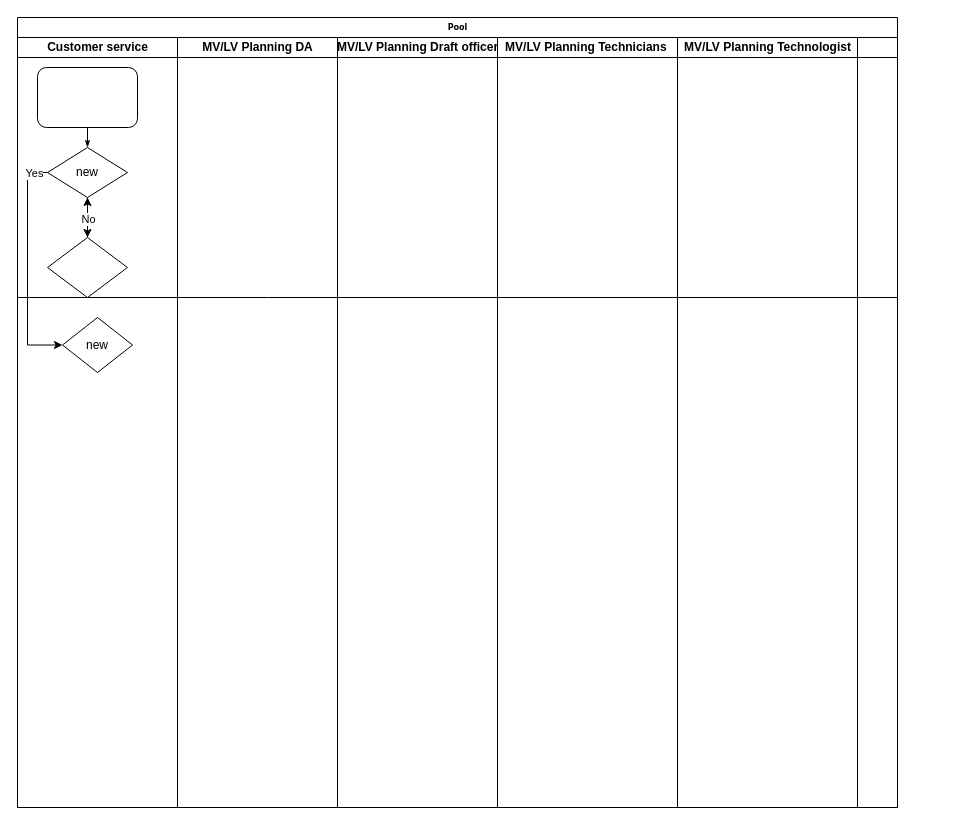
This 967x825 diagram has some shape labels left out. Each missing label, with the centre of its shape:
Customer application: the point at 87,97
MV/LV Planning Engineer: the point at 877,422
Residential: the point at 87,267
